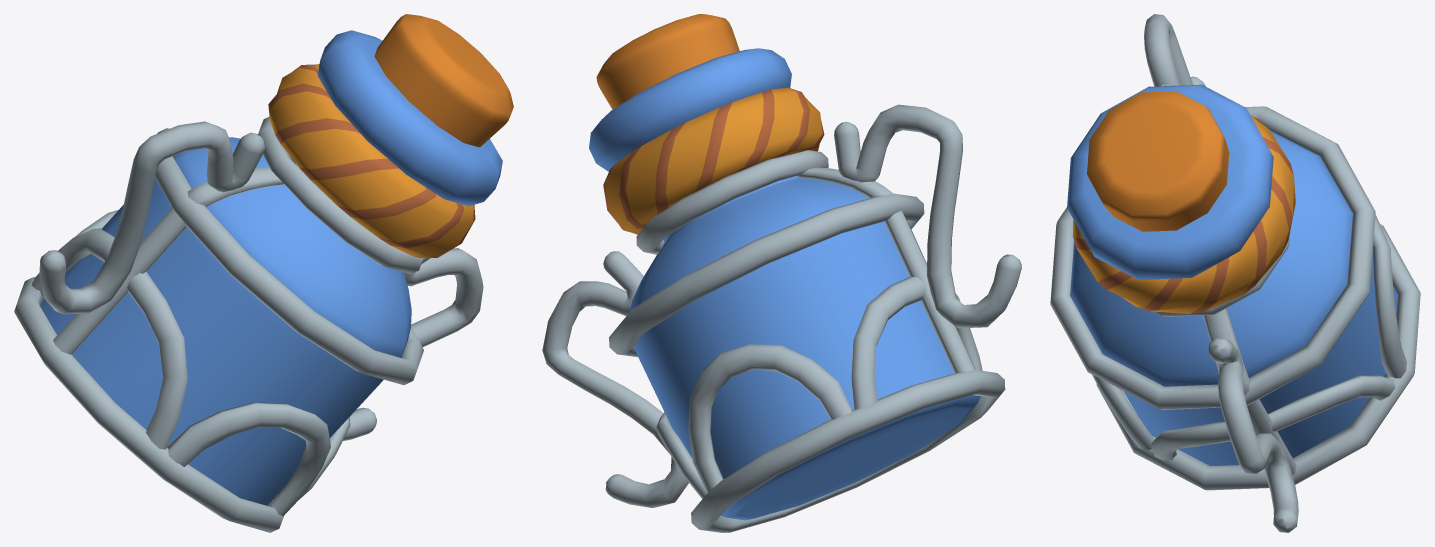
3 views of the same model, side by side, from view 1: azimuth 30°, elevation 25°; view 2: azimuth 150°, elevation 25°; view 3: azimuth 270°, elevation 25° (orthographic). The views are drawn at different scales.
Parts seen in each view (by area): view 1: model_1.130; view 2: model_1.130; view 3: model_1.130.
Part boxes in pixels (x1,y1,x2,y2): model_1.130: (14,14,513,532); model_1.130: (542,14,1021,532); model_1.130: (1050,14,1420,532).
Bounding box in the file's own units: 4.52 × 4.4 × 3.29.
